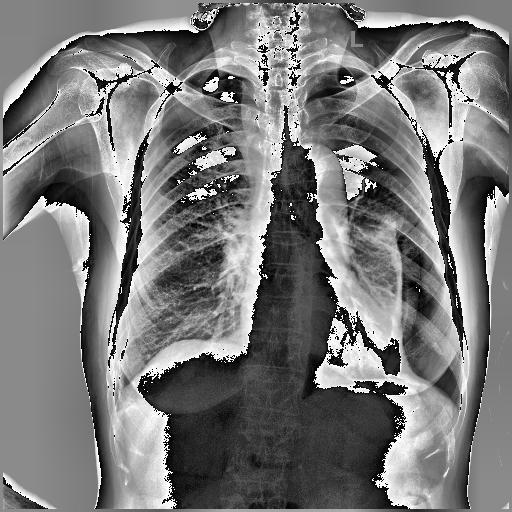0- Aortic enlargement: (278, 141, 348, 222), (290, 142, 348, 226)
11- Pleural thickening: (116, 328, 137, 394)
12- Pneumothorax: (300, 64, 463, 404), (302, 59, 457, 414), (404, 212, 481, 420), (140, 62, 260, 192)
13- Pulmonary fibrosis: (110, 324, 134, 398), (116, 328, 137, 394)
7- Lung Opacity: (336, 213, 406, 376)
